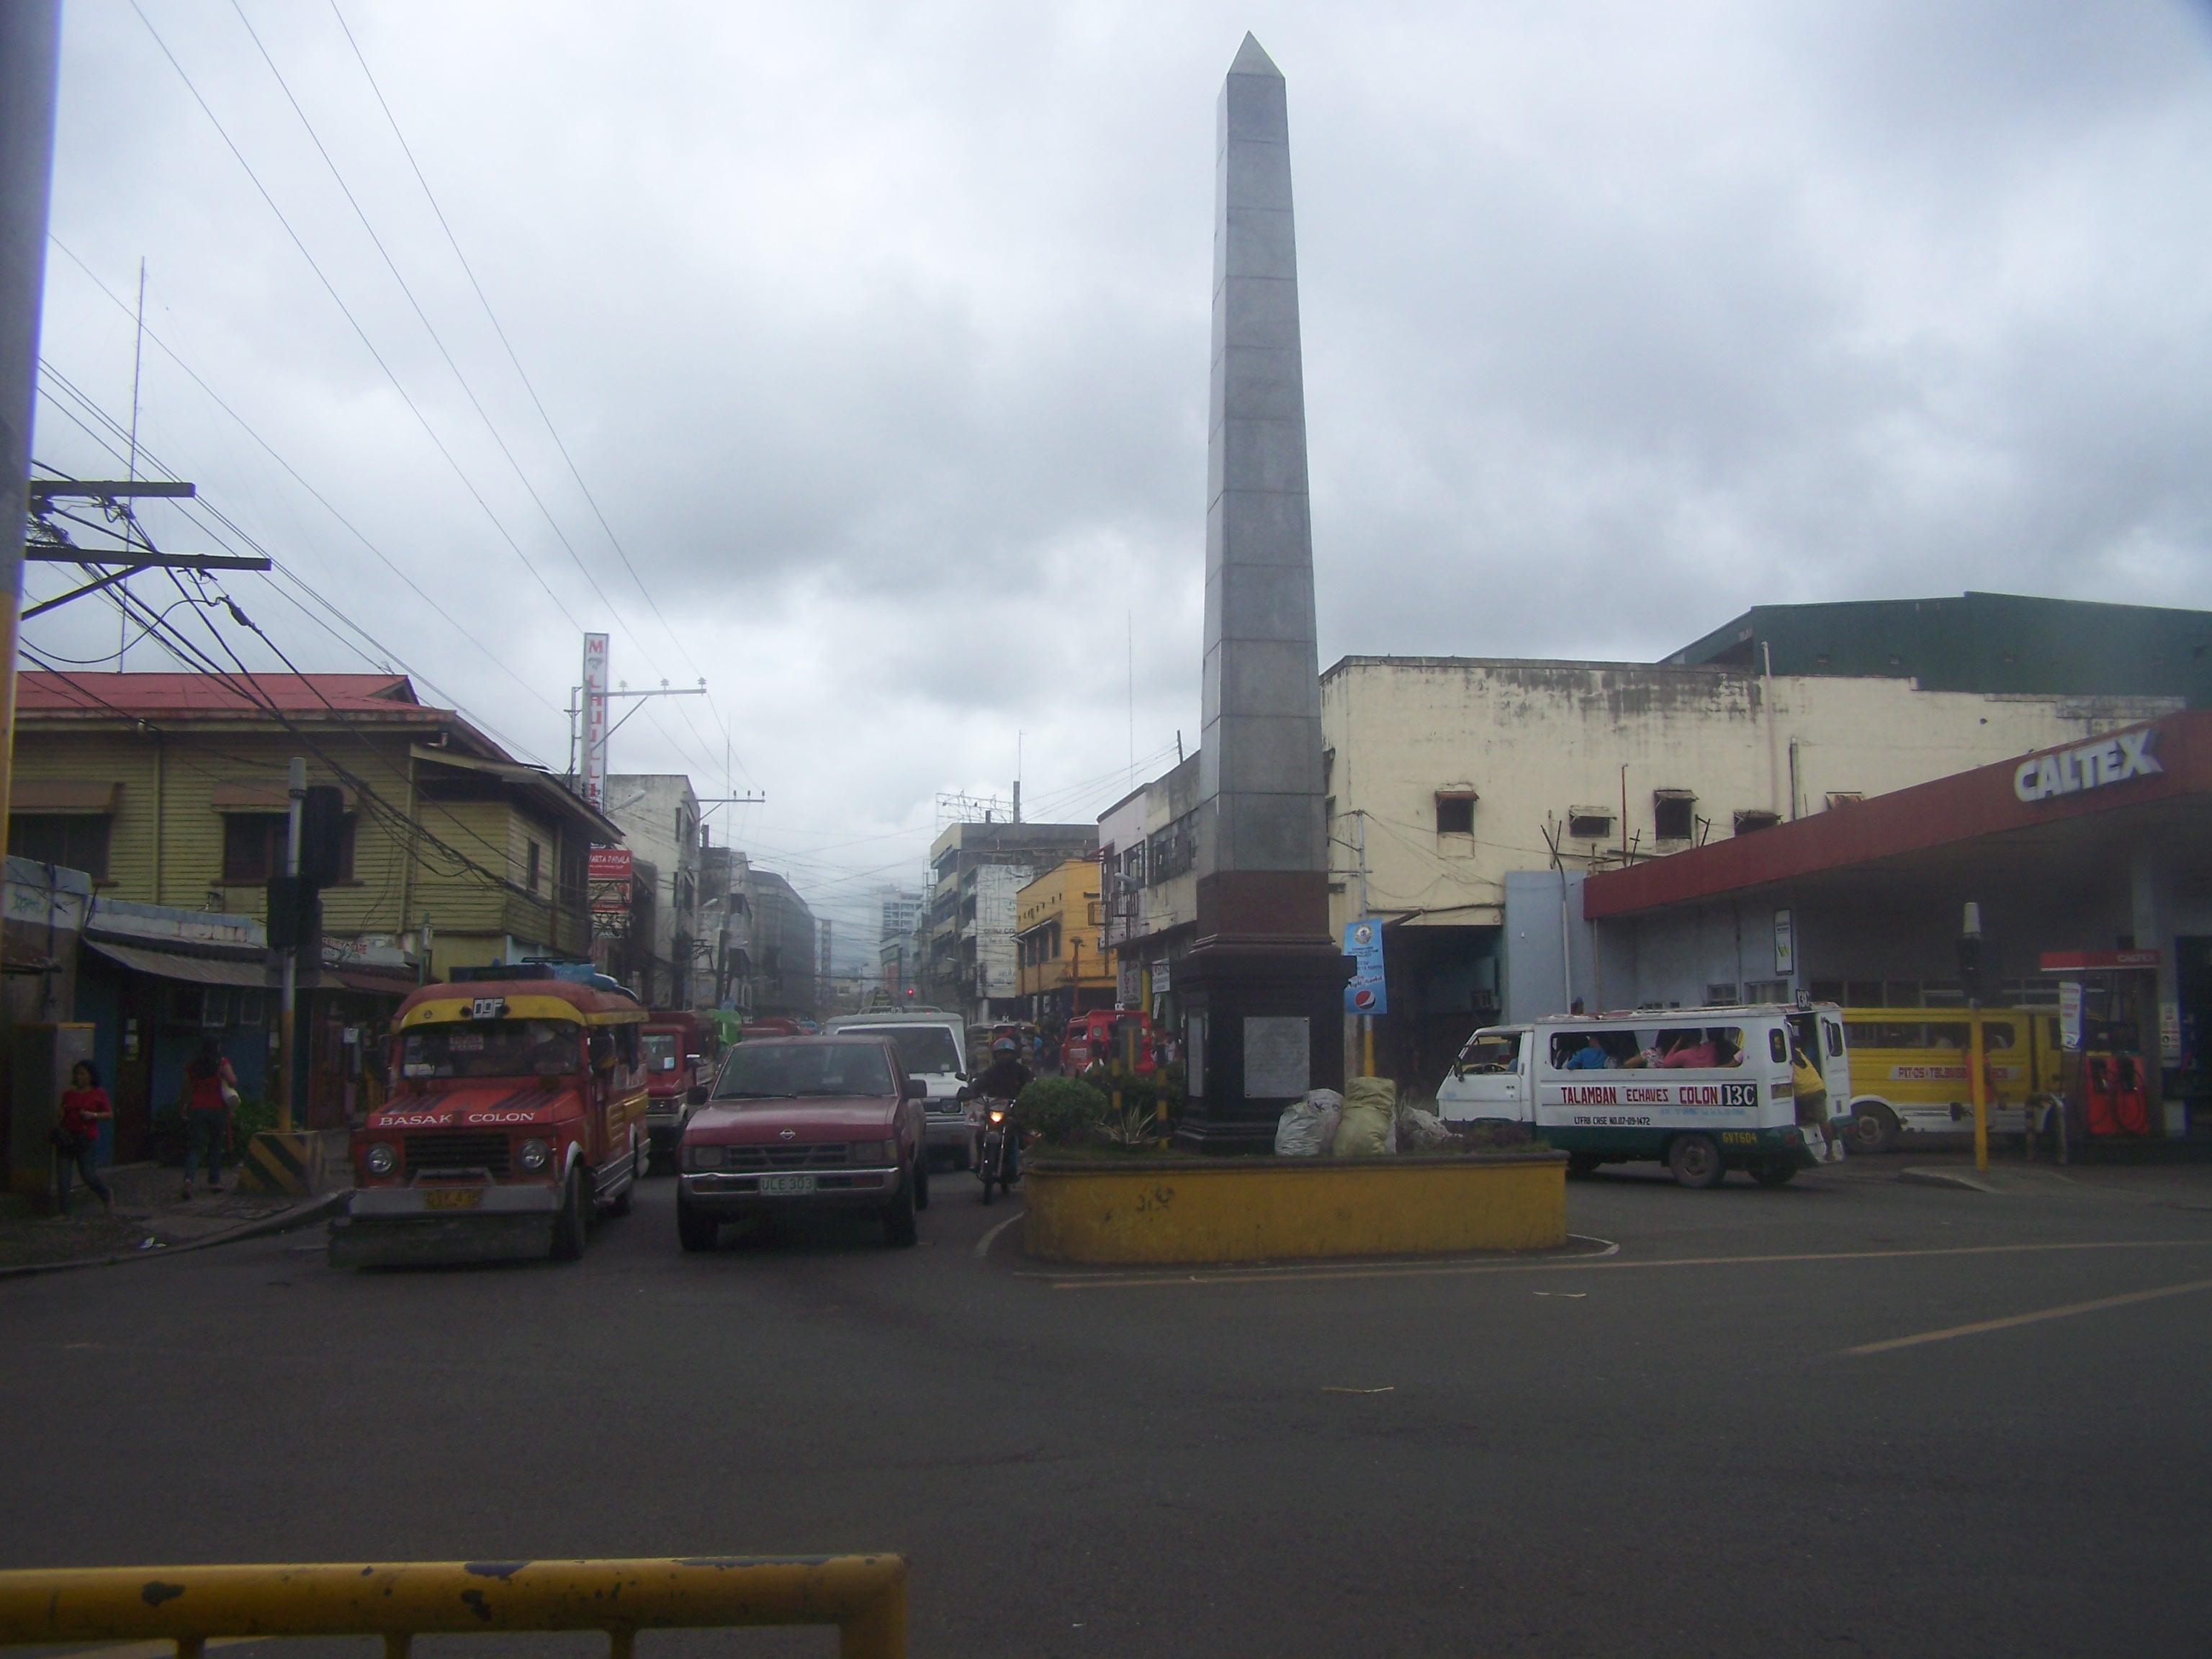bike: (961, 1078, 1031, 1198)
car: (355, 981, 655, 1256), (1447, 1010, 1853, 1179), (684, 1038, 933, 1247), (1840, 1007, 2055, 1138)
person: (178, 1034, 240, 1197), (57, 1061, 122, 1212), (969, 1038, 1023, 1163)
pole: (1961, 902, 1988, 1169), (1364, 1015, 1375, 1077)
traffic light: (300, 786, 341, 882), (264, 881, 318, 948), (1961, 933, 1997, 992)
